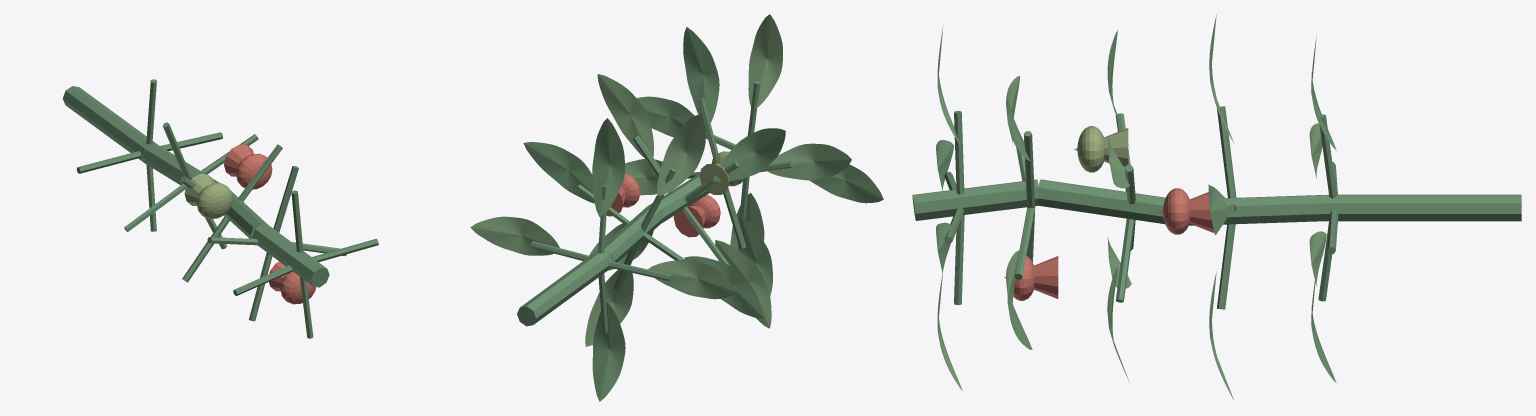
File: pepper_a.glb
3 renders of one model, left to right at view 1: azimuth 30°, elevation 25°; view 2: azimuth 150°, elevation 25°; view 3: azimuth 270°, elevation 25°, orthographic. The views are drawn at different scales.
Visible parts, largest first — view 1: Stem, FruitRed, FruitGreen; view 2: Leaves, Stem, FruitRed, FruitGreen; view 3: Stem, Leaves, FruitRed, FruitGreen.
Part boxes in pixels (x1,y1,x2,y2): Stem: (62, 79, 378, 338); FruitRed: (224, 144, 315, 304); FruitGreen: (184, 174, 232, 218); Leaves: (470, 14, 883, 401); Stem: (517, 81, 793, 332); FruitRed: (606, 173, 720, 237); FruitGreen: (699, 151, 744, 194); Stem: (912, 106, 1521, 309); Leaves: (936, 15, 1336, 399); FruitRed: (1004, 188, 1213, 300); FruitGreen: (1074, 126, 1128, 172).
Bounding box in the file's own units: 0.5 × 0.4981 × 0.7824.
